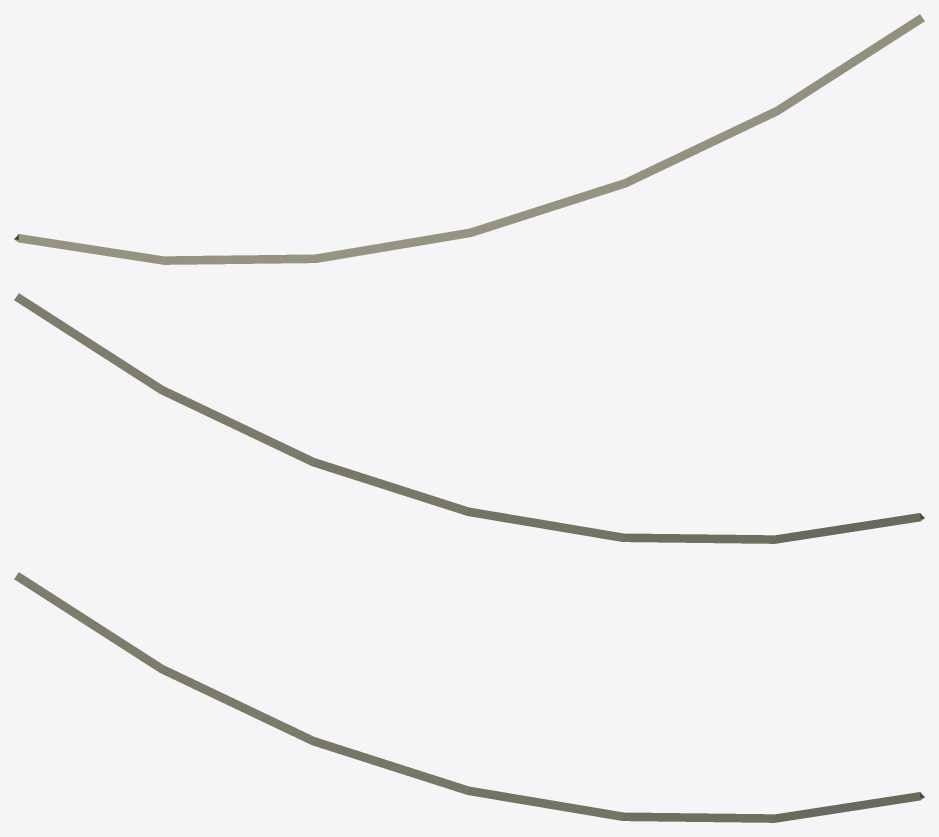
Rendered from Rope_1A.fbx.
3 renders of one model, top to bottom at view 1: azimuth 30°, elevation 25°; view 2: azimuth 150°, elevation 25°; view 3: azimuth 330°, elevation 25°, orthographic.
Visible parts, largest first — view 1: pCylinder68; view 2: pCylinder68; view 3: pCylinder68.
Part boxes in pixels (<box>): pCylinder68: <box>14,14,924,264</box>; pCylinder68: <box>14,293,924,543</box>; pCylinder68: <box>14,572,924,822</box>.
Size of the model in its own units: 583 by 68.45 by 4.85.
